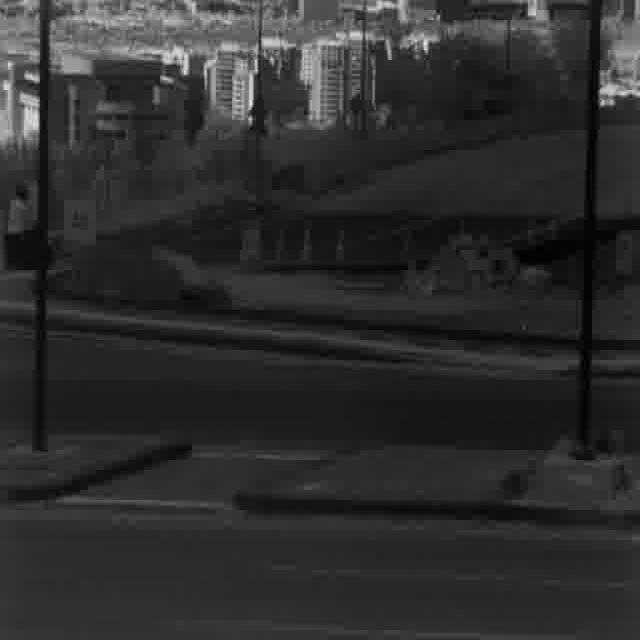Motorcycle: (5, 182, 56, 268)
